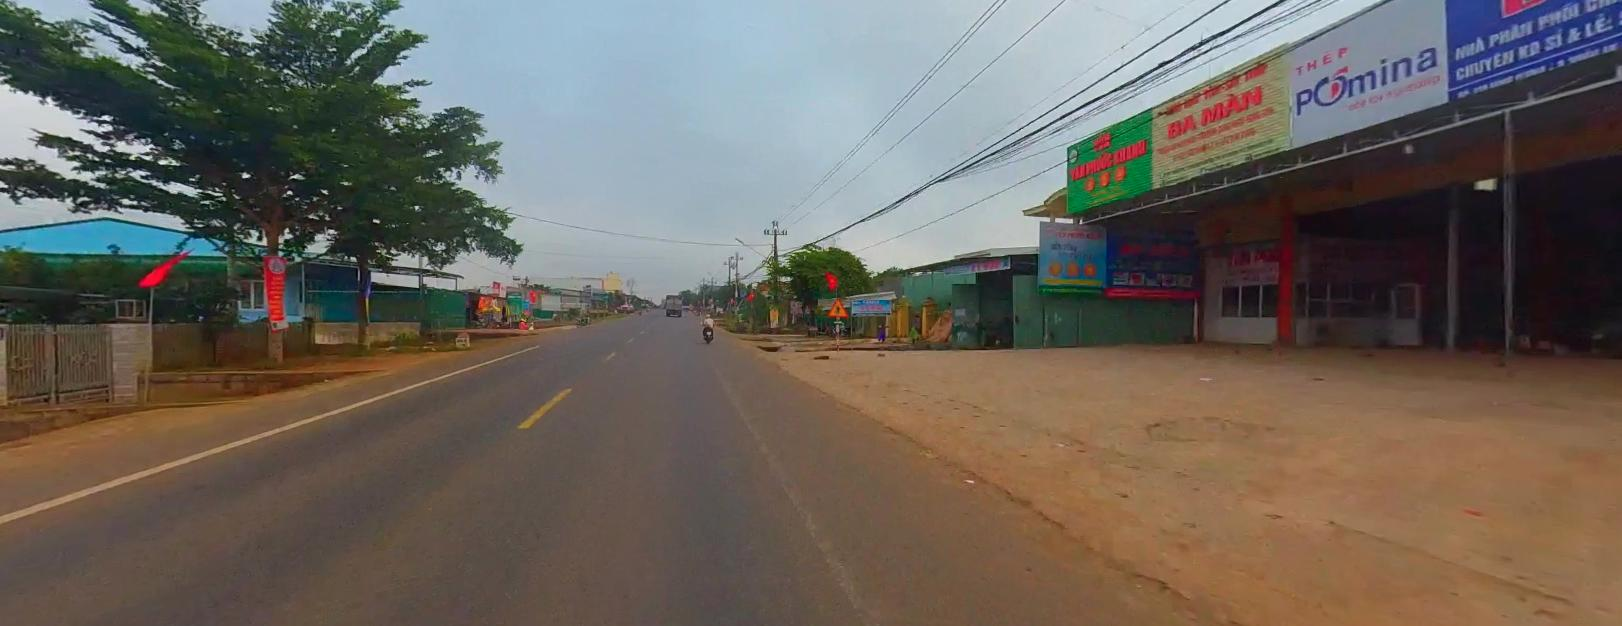Nguy hiem: (827, 297, 847, 316)
